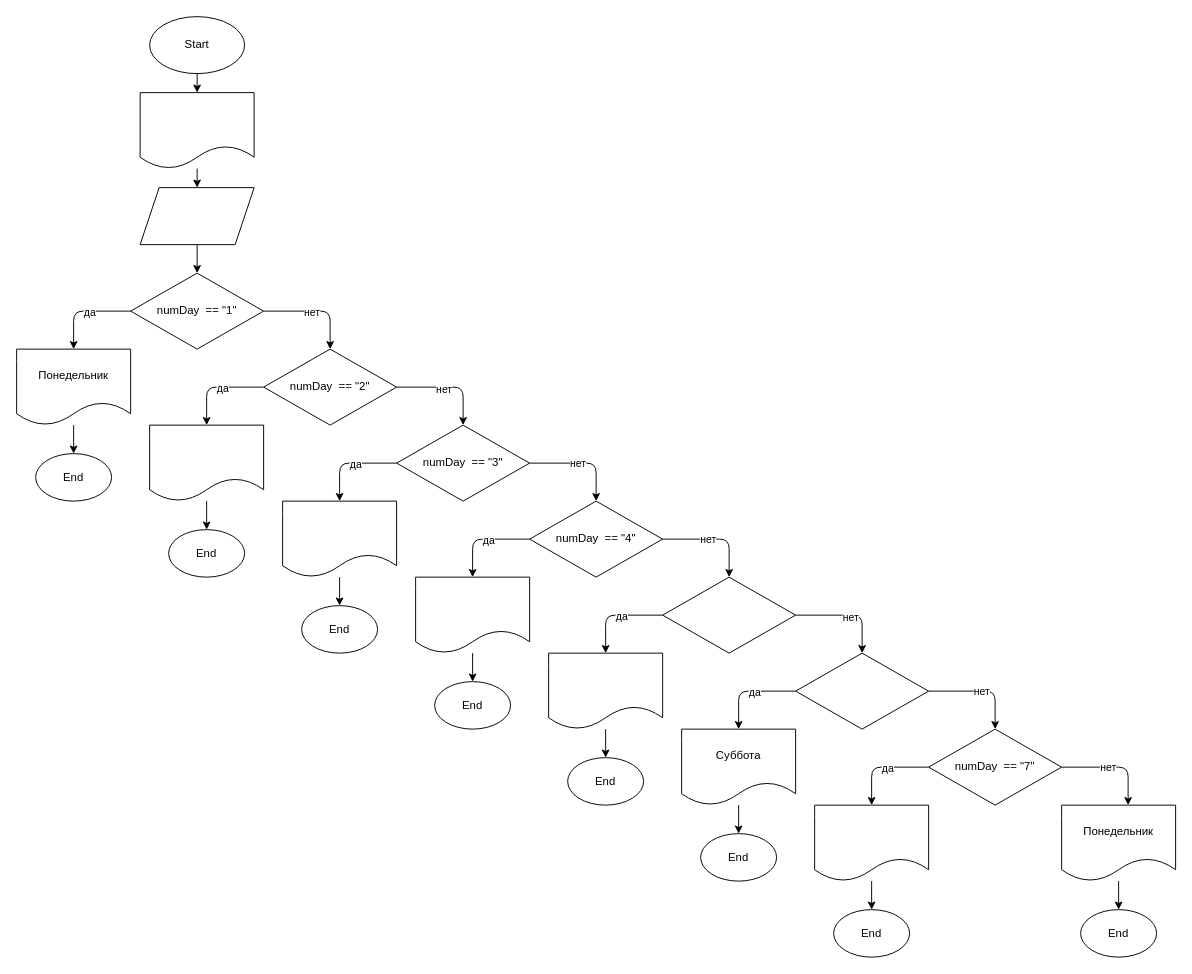
Some shapes in this 1192 by 974 pixel diagram are drawn without their labels. Each missing label, with the box of its shape:
int numDay: (139, 187, 254, 245)
numDay == "5": (662, 576, 796, 653)
numDay == "6": (795, 652, 929, 729)
Введите номер дня недели: (139, 92, 254, 169)
Воскресенье: (814, 804, 929, 881)
Вторник: (149, 424, 264, 501)
Пятница: (548, 652, 663, 729)
Среда: (282, 500, 397, 577)
Четверг: (415, 576, 530, 653)
